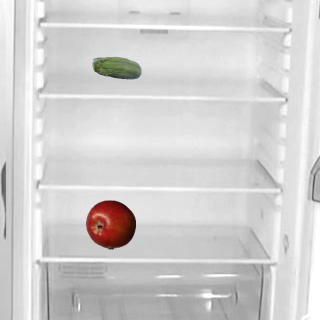Apple Braeburn: (85, 199, 135, 249)
Corn Husk: (91, 44, 141, 94)
